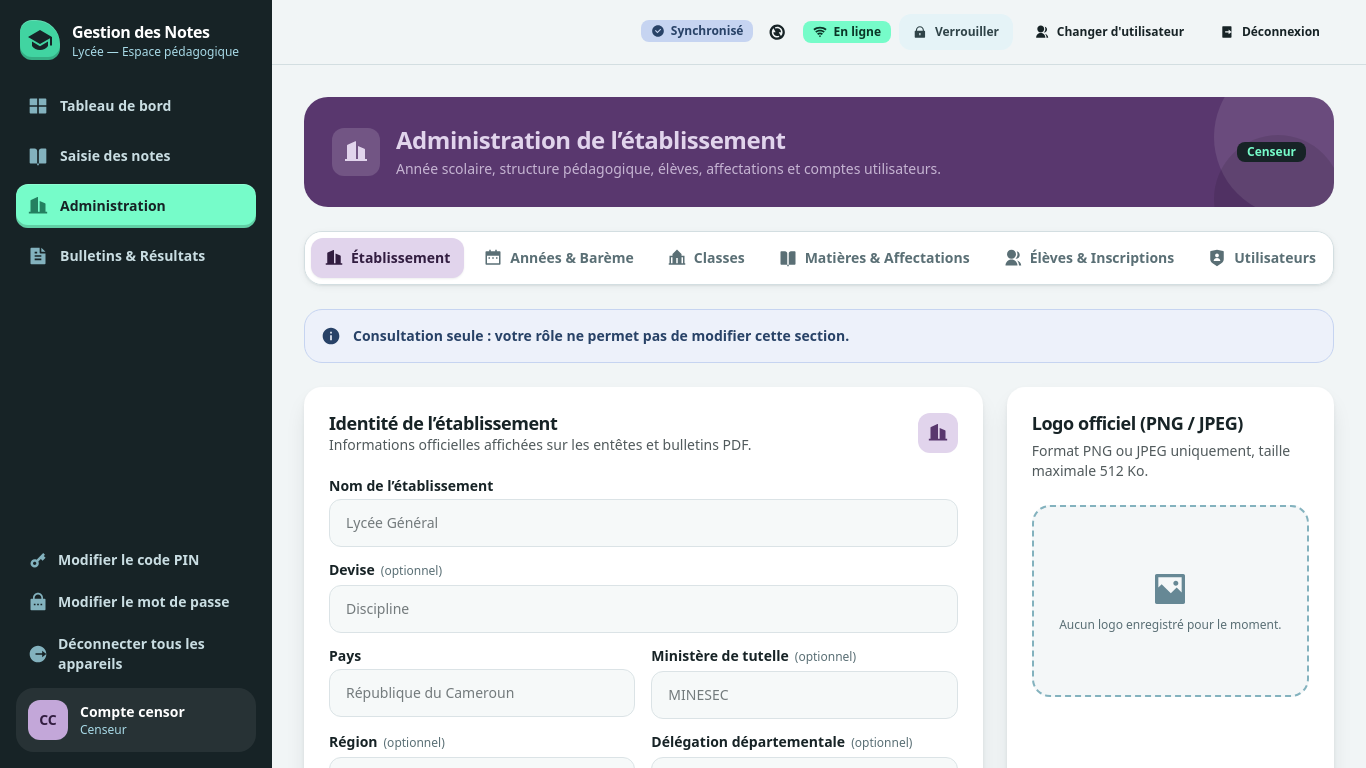
/admin RBAC & School Settings (Milestone 3) › enforces censor read-only on Établissement and restricts user management actions
Expected: the text "Consultation seule : votre rôle ne permet pas de modifier cette section." is shown, [353, 326, 849, 346]
Expected: the field showing "Lycée Général" is disabled, [346, 512, 941, 532]
Step 1. Click the tab "Utilisateurs" → point(1262, 258), box [1194, 238, 1330, 278]
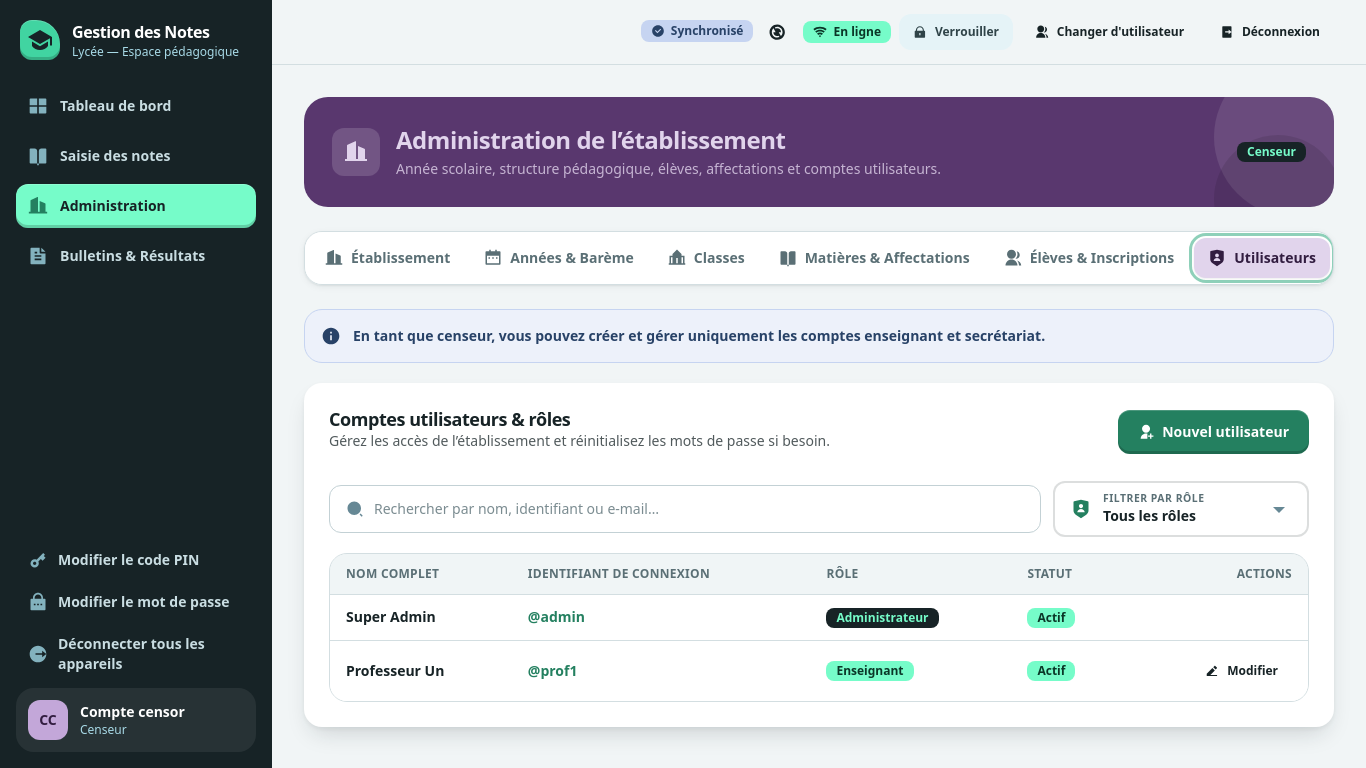
Result: the text "En tant que censeur, vous pouvez créer et gérer uniquement les comptes enseignant et secrétariat." is shown at [353, 326, 1045, 345]
Result: the text "Super Admin" is shown at [346, 607, 436, 626]
Result: the number of buttons "Modifier" is 1 at [1191, 652, 1292, 688]
